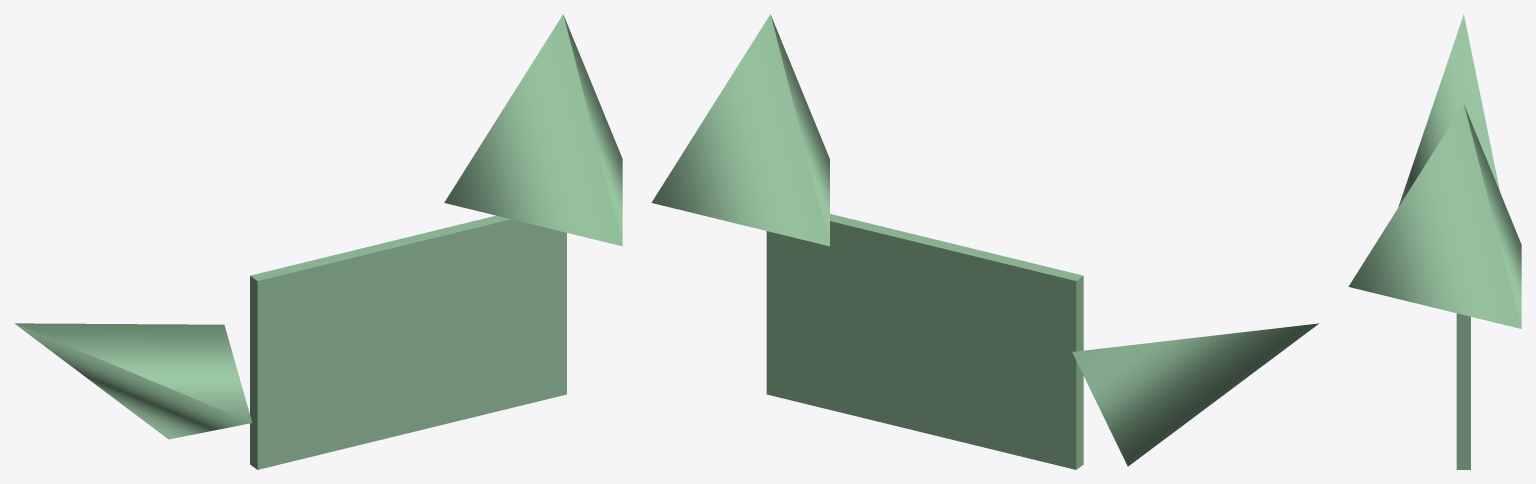
The model's file is canvas-hero-dragon.gltf.
3 views of the same model, side by side, from view 1: azimuth 30°, elevation 25°; view 2: azimuth 150°, elevation 25°; view 3: azimuth 270°, elevation 25° (orthographic). The views are drawn at different scales.
Visible parts, largest first — view 1: Body, Head, Tail; view 2: Body, Head, Tail; view 3: Head, Tail, Body.
Part boxes in pixels (x1=…): Body: x1=250, y1=215, x2=566, y2=469; Head: x1=444, y1=14, x2=622, y2=246; Tail: x1=14, y1=323, x2=252, y2=439; Body: x1=766, y1=214, x2=1083, y2=469; Head: x1=651, y1=14, x2=829, y2=246; Tail: x1=1072, y1=323, x2=1318, y2=466; Head: x1=1348, y1=104, x2=1521, y2=328; Tail: x1=1398, y1=14, x2=1499, y2=207; Body: x1=1456, y1=313, x2=1470, y2=469.
Size of the model in its own units: 0.4952 by 0.28 by 0.12.
